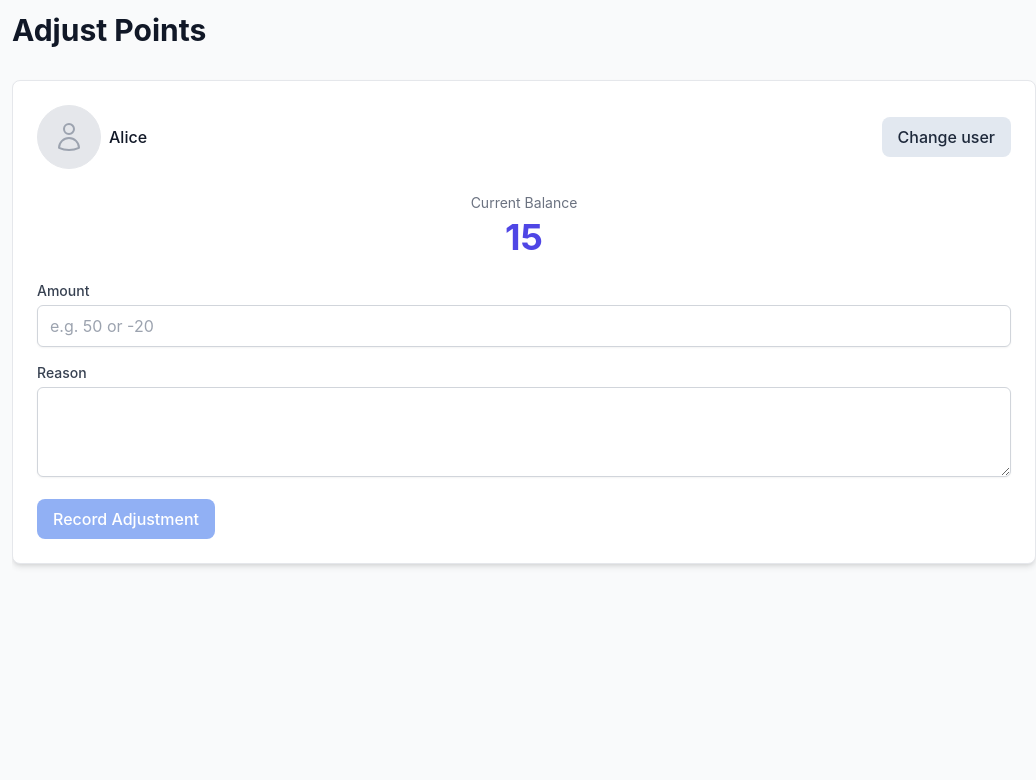
Test: AdminPointsAdjustment page › submitting a valid amount and reason records the adjustment and refreshes the balance
The width and height of the screenshot is (1036, 780).
Expected: the text "15" is shown, [505,215,543,259]
Type "50" into the number field labelled "Amount".
click(524, 326); type("50")  # box [37,305,1011,347]
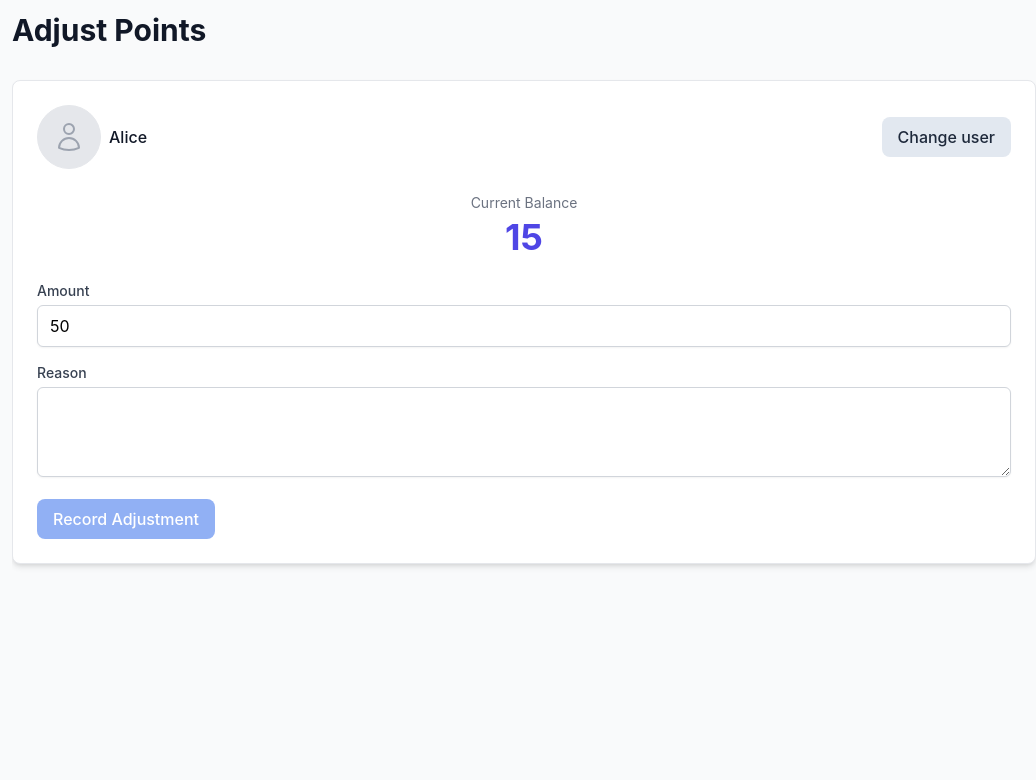
Type "Bonus for tournament help" into the text box labelled "Reason".
click(524, 432); type("Bonus for tournament help")  # box [37,387,1011,477]
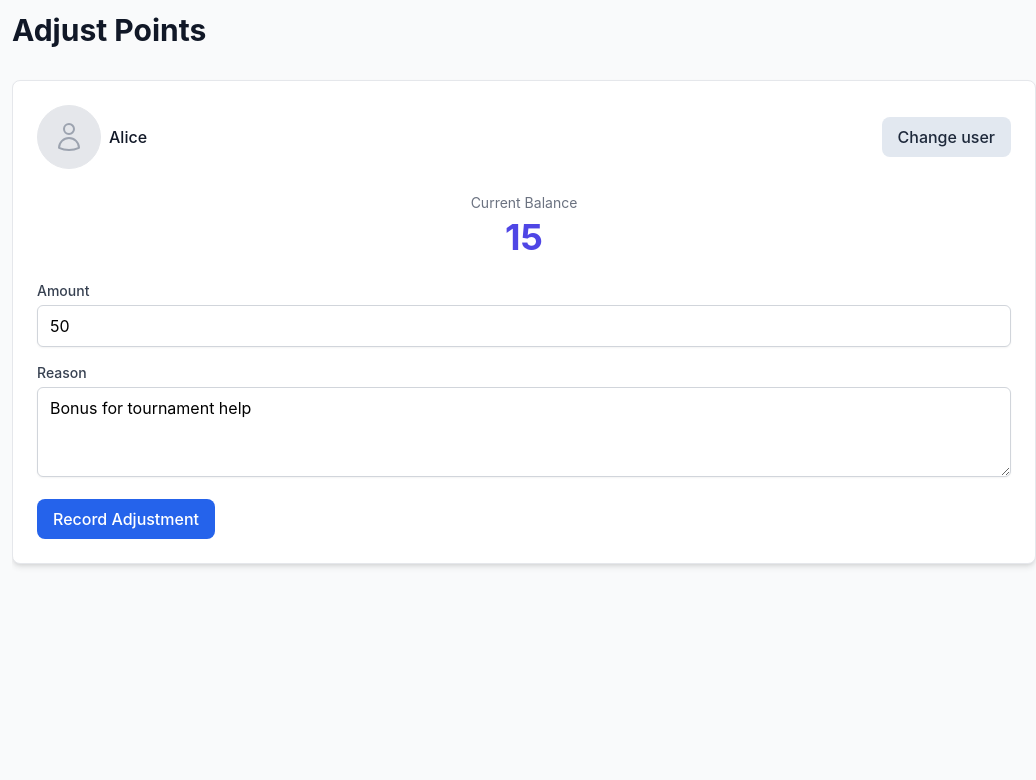
Click the button "Record Adjustment".
click(126, 519)  # box [37,499,215,539]
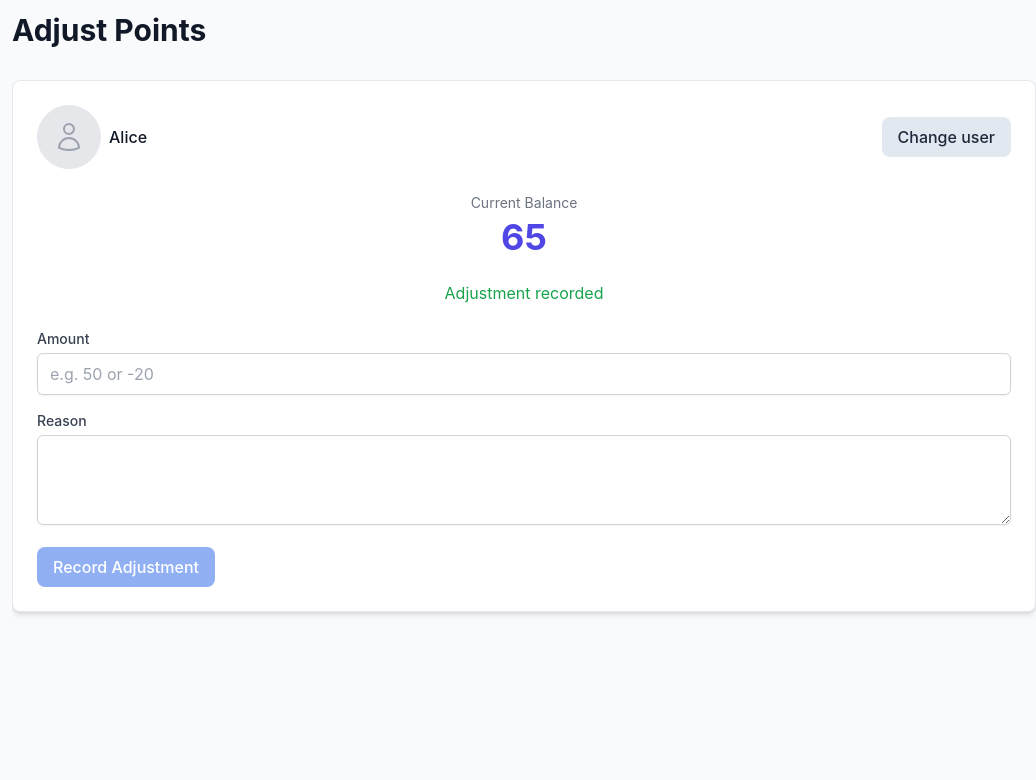
Expected: the text "65" is shown, [501,215,547,259]
Expected: the text "Adjustment recorded" is shown, [444,283,603,303]
Expected: the number field labelled "Amount" is empty, [37,353,1011,395]
